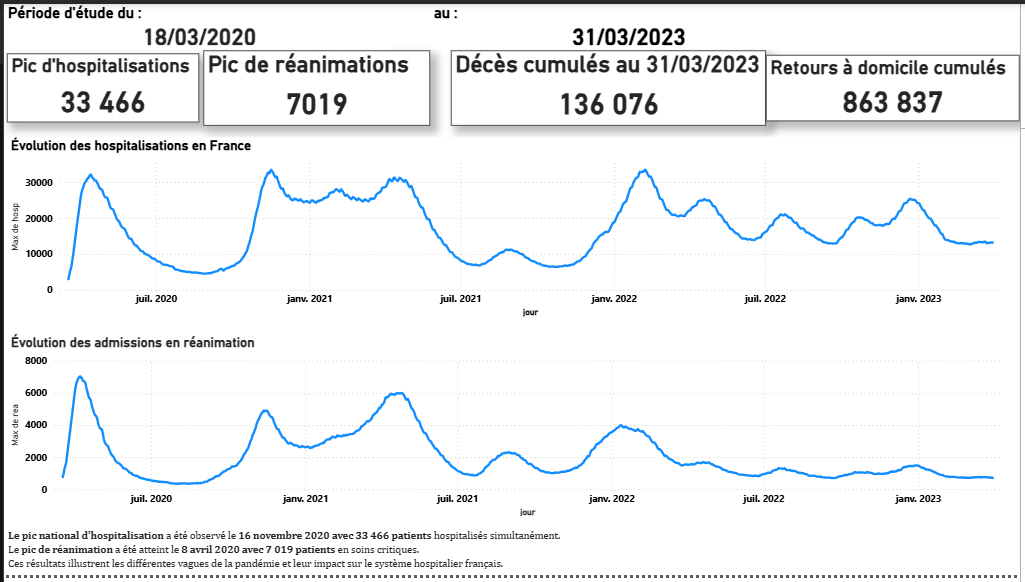

The page's visual inventory and layout, read from the dashboard file:
{"tool":"powerbi","page":{"name":"Covid-19 en France : Vue d'ensemble (2020-2023)","canvas":[1280,720],"ordinal":0},"visuals":[{"type":"card","title":"Pic d''hospitalisations","fields":{"Values":["Max(table_evolution.hosp)"]},"box":[3.8,62.4,241.9,86.9],"z":0},{"type":"card","title":"Pic de réanimations","fields":{"Values":["Max(table_evolution.rea)"]},"box":[251.3,58.6,285.4,94.5],"z":1000},{"type":"card","title":"Décès cumulés au 31/03/2023","fields":{"Values":["Max(table_evolution.dc)"]},"box":[563.2,58.6,396.9,94.5],"z":2000},{"type":"card","title":"Retours à domicile cumulés","fields":{"Values":["Max(table_evolution.rad)"]},"box":[960,64.3,319.4,83.2],"z":3000},{"type":"card","title":"Période d''étude du :","fields":{"Values":["Min(table_evolution.jour)"]},"box":[0,0,491.3,56.7],"z":4000},{"type":"card","title":"au : ","fields":{"Values":["Max(table_evolution.jour)"]},"box":[536.7,0,500.8,56.7],"z":5000},{"type":"lineChart","title":"Évolution des hospitalisations en France","fields":{"Category":["table_evolution.jour"],"Y":["Max(table_evolution.hosp)"]},"box":[3.8,168.2,1275.6,230.6],"z":6000},{"type":"lineChart","title":"Évolution des admissions en réanimation","fields":{"Category":["table_evolution.jour"],"Y":["Max(table_evolution.rea)"]},"box":[3.8,415.8,1275.6,234.3],"z":7000},{"type":"textbox","box":[0,653.9,1020.5,66.1],"z":8000}]}

Visuals, with their boxes in screenshot pixels (x1, y1, x2, y2), scaled from the page's 1280x720 canvas onto the 1025x582 screenshot:
"Pic d''hospitalisations" card: x1=3, y1=50, x2=197, y2=121
"Pic de réanimations" card: x1=201, y1=47, x2=430, y2=124
"Décès cumulés au 31/03/2023" card: x1=451, y1=47, x2=769, y2=124
"Retours à domicile cumulés" card: x1=769, y1=52, x2=1024, y2=119
"Période d''étude du :" card: x1=0, y1=0, x2=393, y2=46
"au : " card: x1=430, y1=0, x2=831, y2=46
"Évolution des hospitalisations en France" lineChart: x1=3, y1=136, x2=1024, y2=322
"Évolution des admissions en réanimation" lineChart: x1=3, y1=336, x2=1024, y2=525
textbox: x1=0, y1=529, x2=817, y2=581
